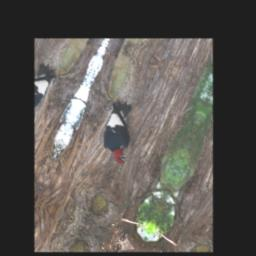Woodpecker: (88, 95, 152, 170)
